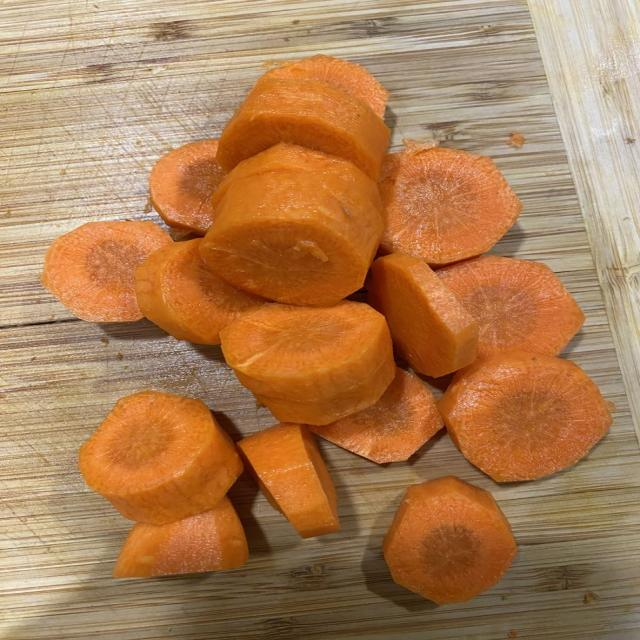carrot: (200, 144, 382, 305), (439, 351, 611, 481), (79, 391, 242, 524), (221, 301, 395, 424), (217, 76, 390, 179), (380, 141, 520, 265), (383, 477, 516, 604), (436, 256, 584, 357), (367, 254, 478, 377), (136, 239, 265, 344), (42, 222, 173, 322), (311, 368, 443, 463), (238, 425, 339, 538), (114, 497, 247, 578), (266, 55, 388, 118), (149, 139, 226, 235)
